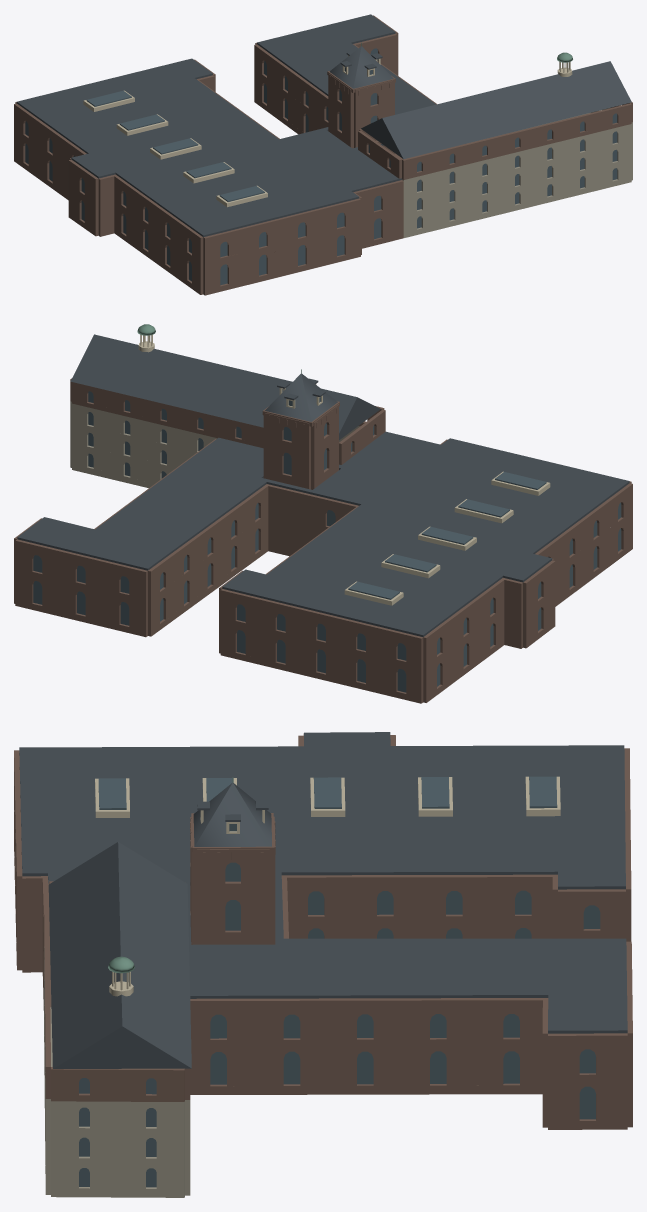
File: savage-mill-far.glb
The picture shows the model from 3 angles, top to bottom: view 1: azimuth 30°, elevation 25°; view 2: azimuth 150°, elevation 25°; view 3: azimuth 270°, elevation 25°; orthographic projection. The views are drawn at different scales.
Visible parts, largest first — view 1: savage-mill-0-roof, savage-mill-0-brick, savage-mill-0-stone, savage-mill-0-glass, savage-mill-0-trim; view 2: savage-mill-0-roof, savage-mill-0-brick, savage-mill-0-glass, savage-mill-0-stone, savage-mill-0-trim; view 3: savage-mill-0-roof, savage-mill-0-brick, savage-mill-0-glass, savage-mill-0-stone, savage-mill-0-trim.
Part boxes in pixels (x1=…): savage-mill-0-roof: x1=16, y1=14, x2=631, y2=237; savage-mill-0-brick: x1=14, y1=15, x2=632, y2=295; savage-mill-0-stone: x1=402, y1=108, x2=632, y2=237; savage-mill-0-glass: x1=25, y1=48, x2=617, y2=285; savage-mill-0-trim: x1=83, y1=55, x2=572, y2=207; savage-mill-0-roof: x1=17, y1=334, x2=629, y2=636; savage-mill-0-brick: x1=14, y1=378, x2=632, y2=703; savage-mill-0-glass: x1=33, y1=391, x2=621, y2=692; savage-mill-0-stone: x1=70, y1=401, x2=359, y2=488; savage-mill-0-trim: x1=138, y1=334, x2=550, y2=605; savage-mill-0-roof: x1=19, y1=732, x2=627, y2=1068; savage-mill-0-brick: x1=14, y1=733, x2=632, y2=1129; savage-mill-0-glass: x1=79, y1=776, x2=600, y2=1187; savage-mill-0-stone: x1=44, y1=947, x2=190, y2=1197; savage-mill-0-trim: x1=95, y1=776, x2=560, y2=996.
Size of the model in its own units: 89.76 by 27.8 by 63.25.
